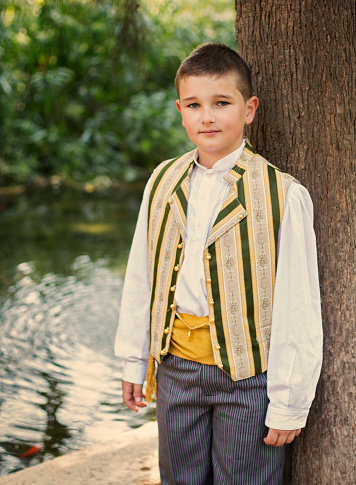em pe: (111, 46, 319, 484)
